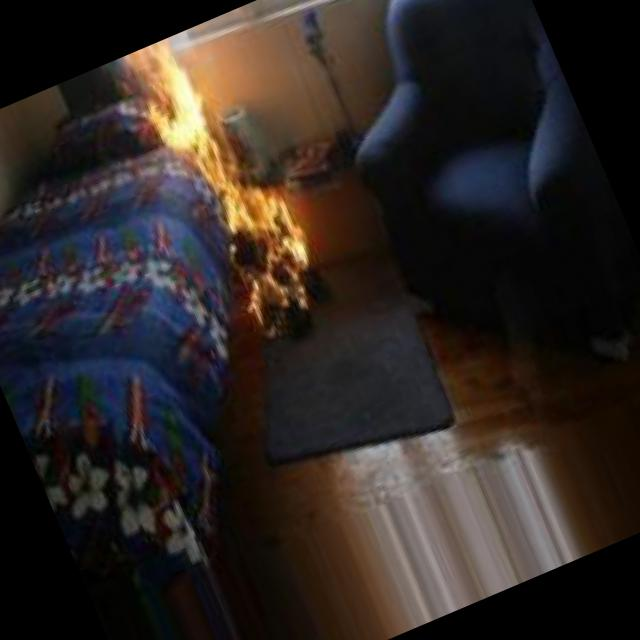fire: (124, 17, 335, 340)
